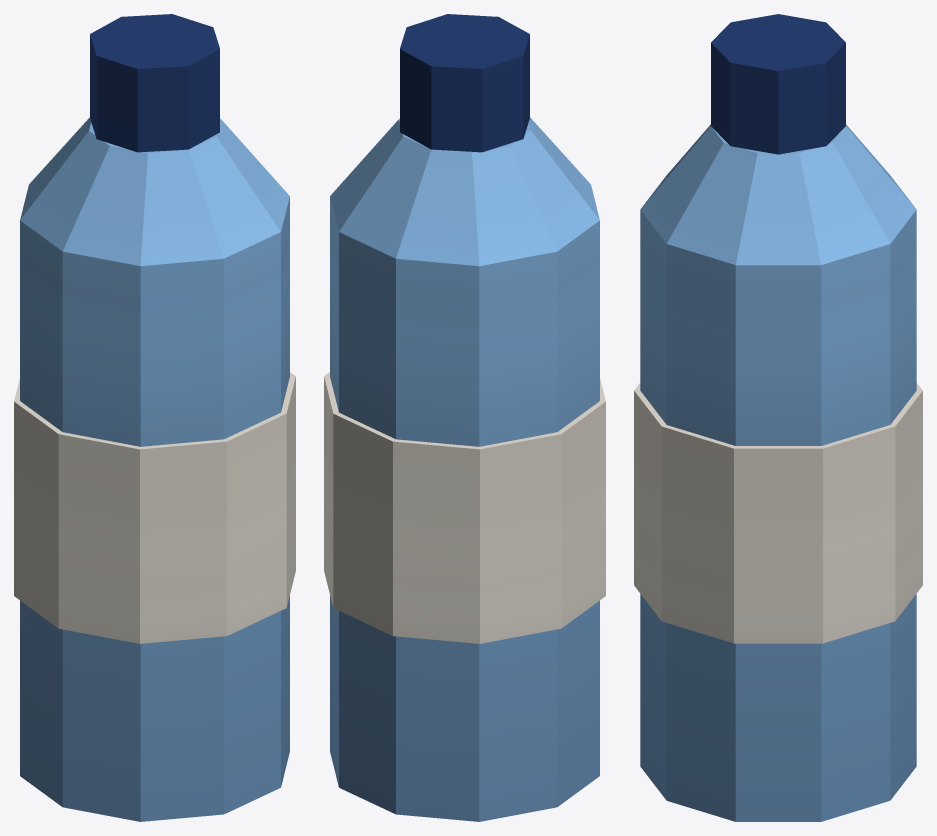
The model's file is Garrafa.glb.
3 views of the same model, side by side, from view 1: azimuth 30°, elevation 25°; view 2: azimuth 150°, elevation 25°; view 3: azimuth 270°, elevation 25° (orthographic).
Parts seen in each view (by area): view 1: Garrafa_Malha; view 2: Garrafa_Malha; view 3: Garrafa_Malha.
Boxes of the visible parts, <box> form: Garrafa_Malha: <box>14,14,295,821</box>; Garrafa_Malha: <box>324,14,605,821</box>; Garrafa_Malha: <box>634,14,922,821</box>.
Size of the model in its own units: 0.0894 by 0.26 by 0.094.
1 material, 1 textured.
